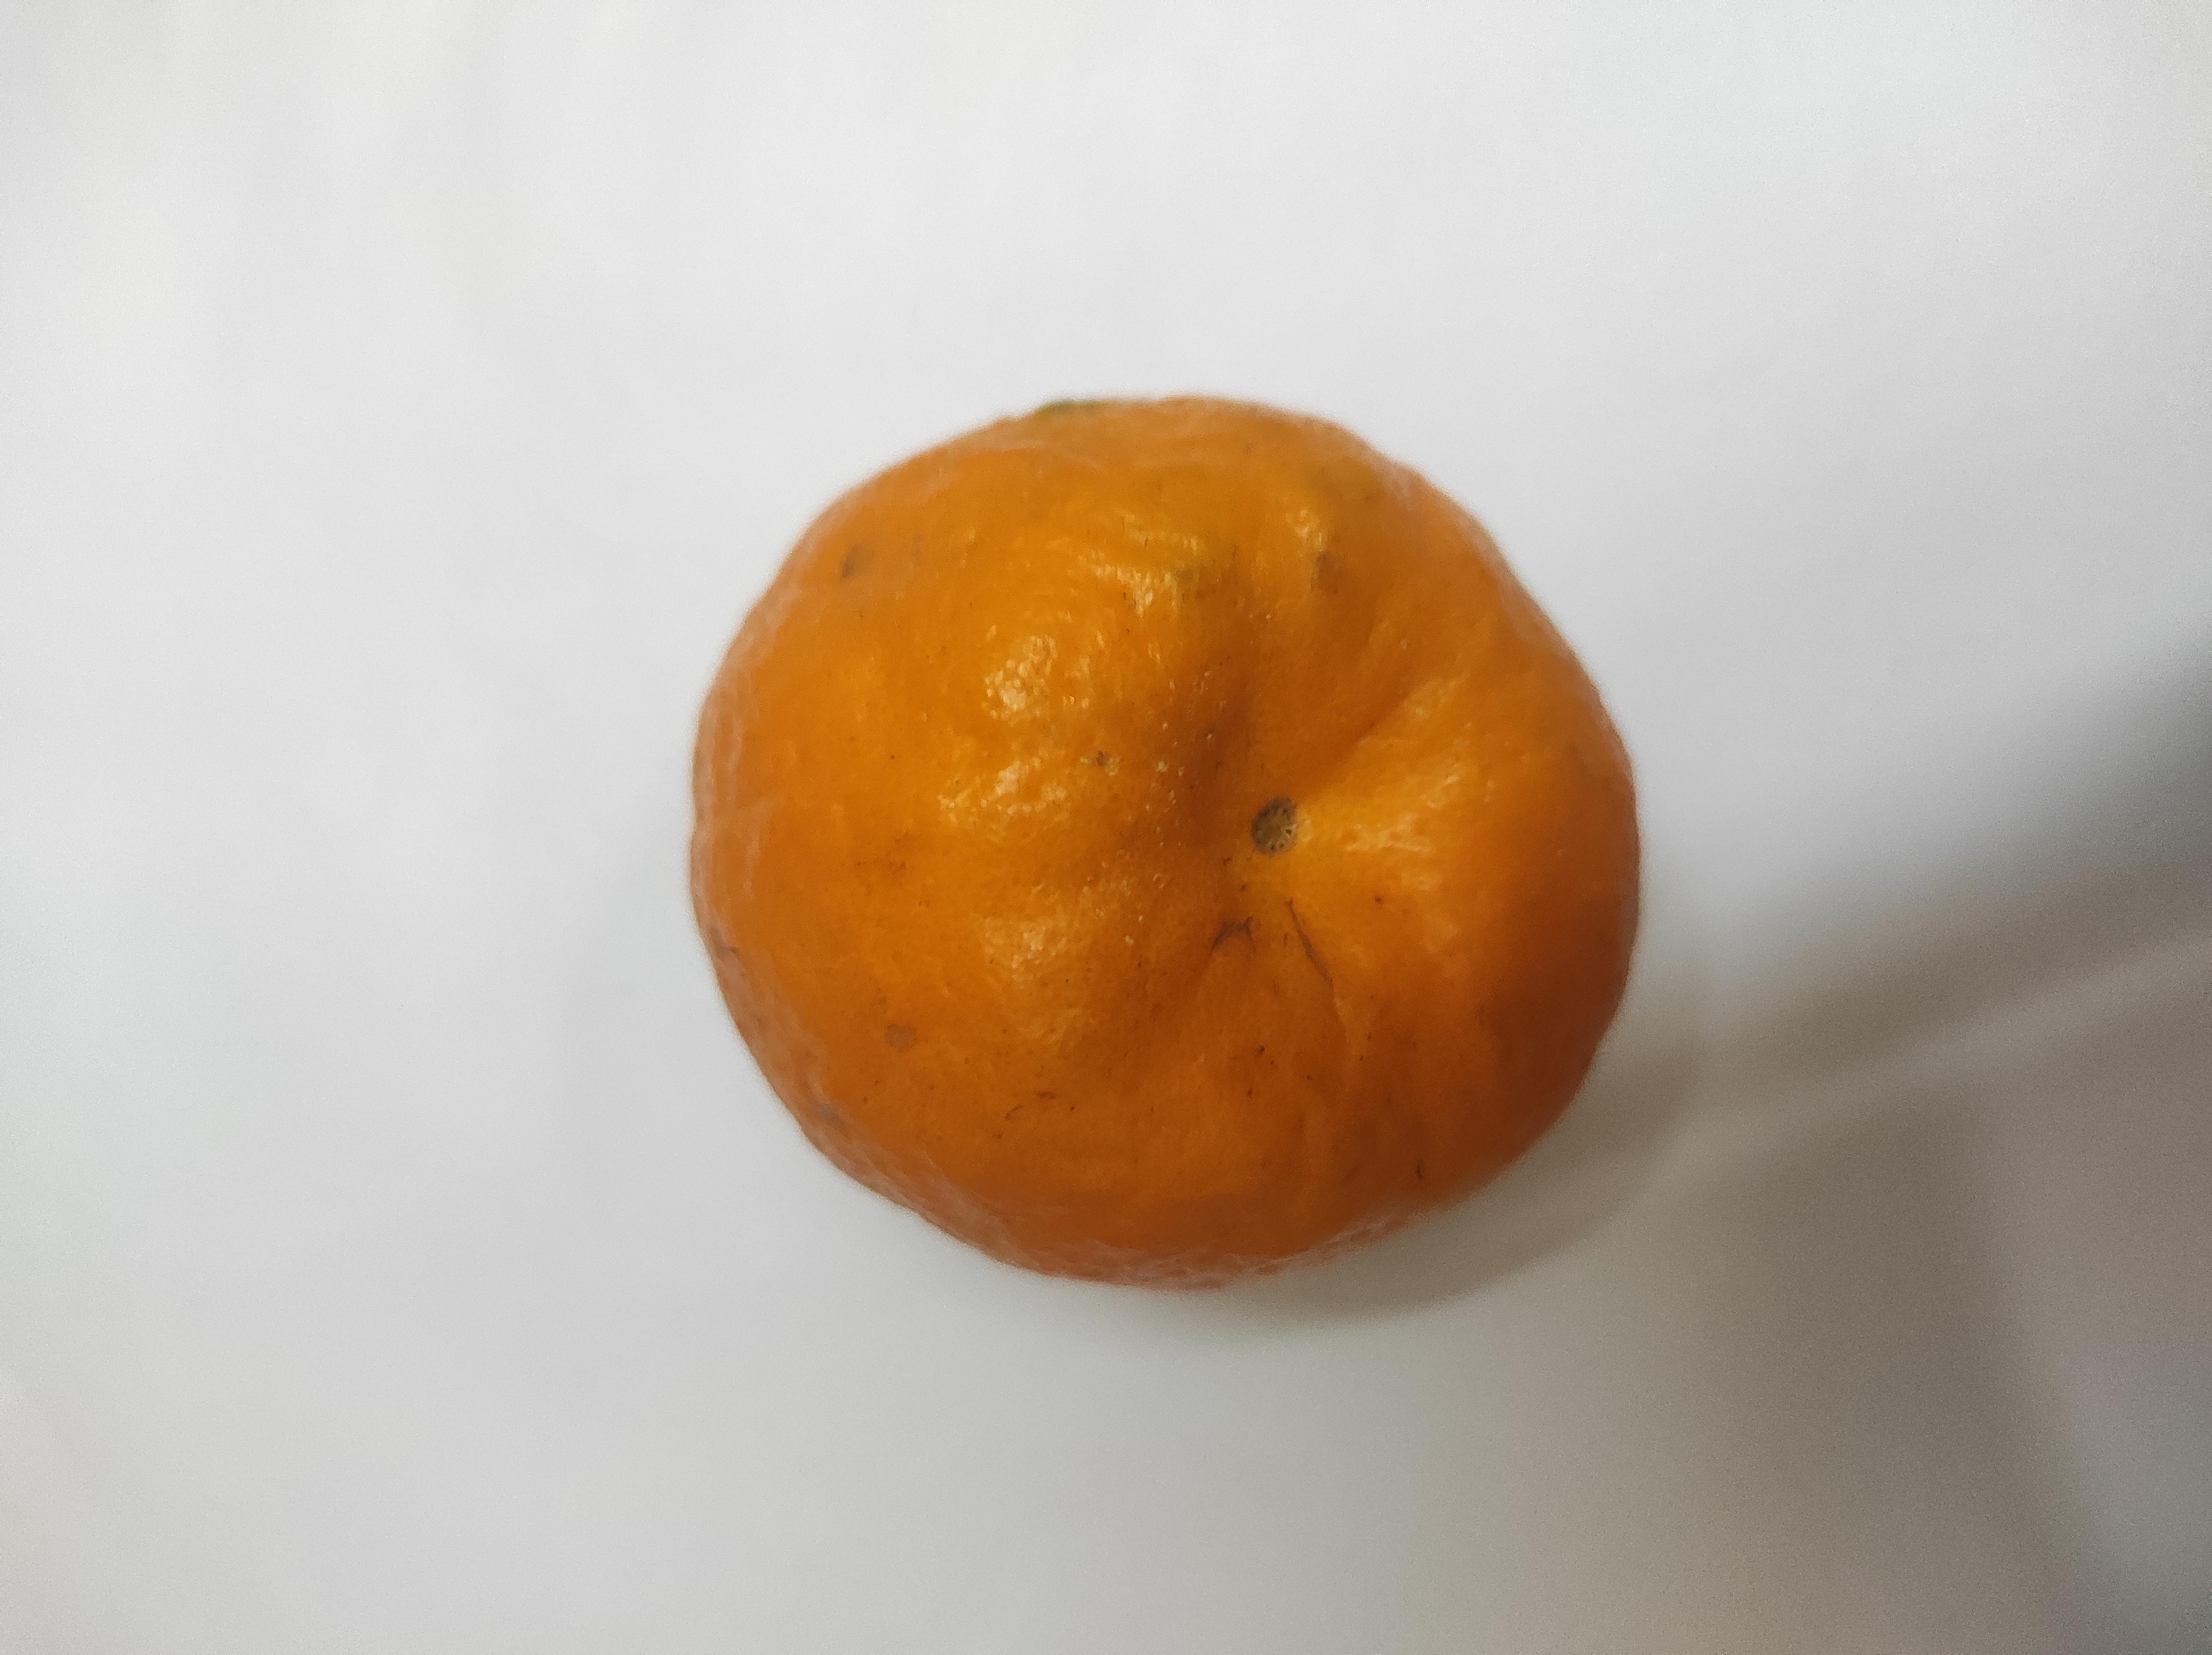Ripe: (692, 377, 1650, 1286)
